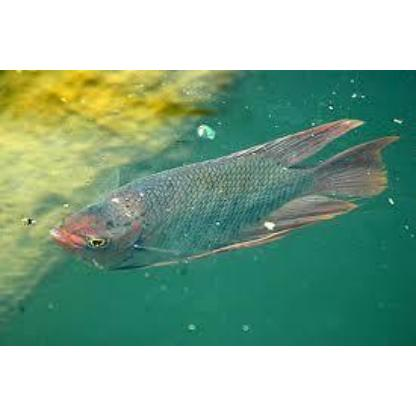gurame: (48, 120, 385, 264)
